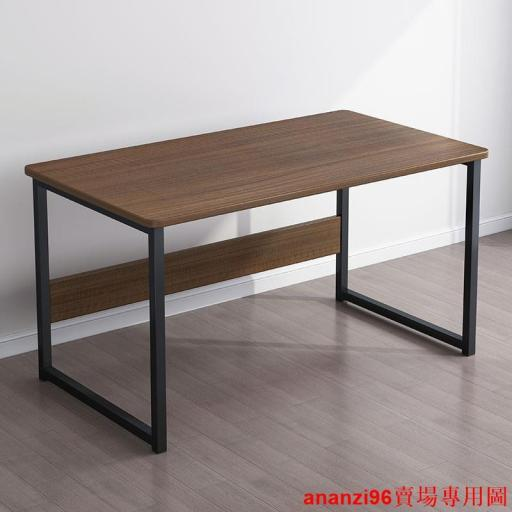table: (22, 108, 484, 452)
